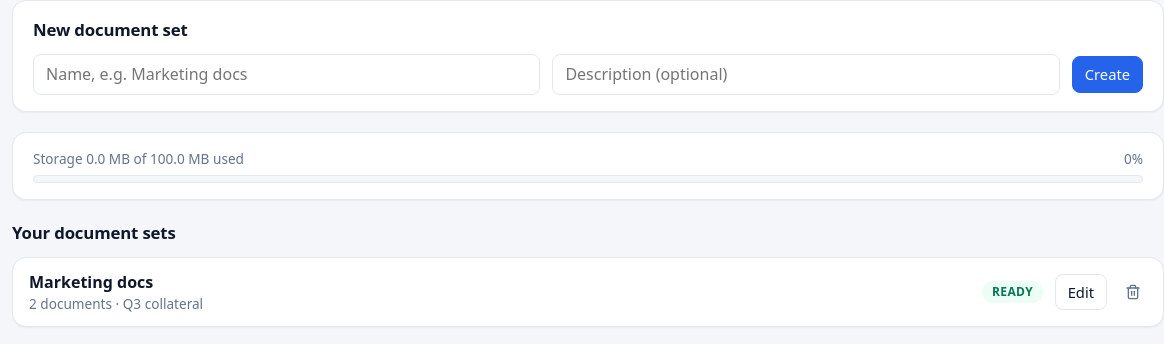
Test: DashboardPage › keeps the save button disabled when the name is empty
Expected: the text "Marketing docs" is shown, top-left (29, 271), bottom-right (153, 293)
Click the button "Edit".
click(1081, 292)  # box top-left (1055, 274), bottom-right (1107, 310)
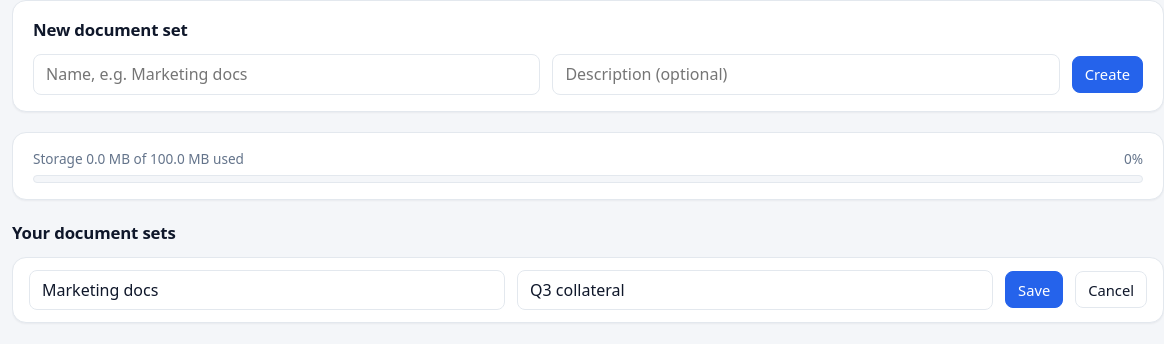
Clear the 1st field with placeholder "Name" at (267, 290), box top-left (29, 270), bottom-right (505, 310)
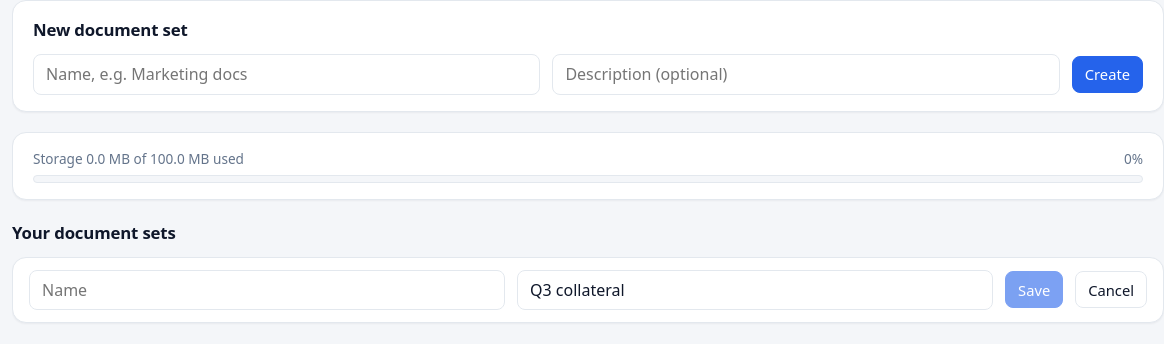
Result: the button "Save" is disabled at top-left (1005, 272), bottom-right (1063, 308)
